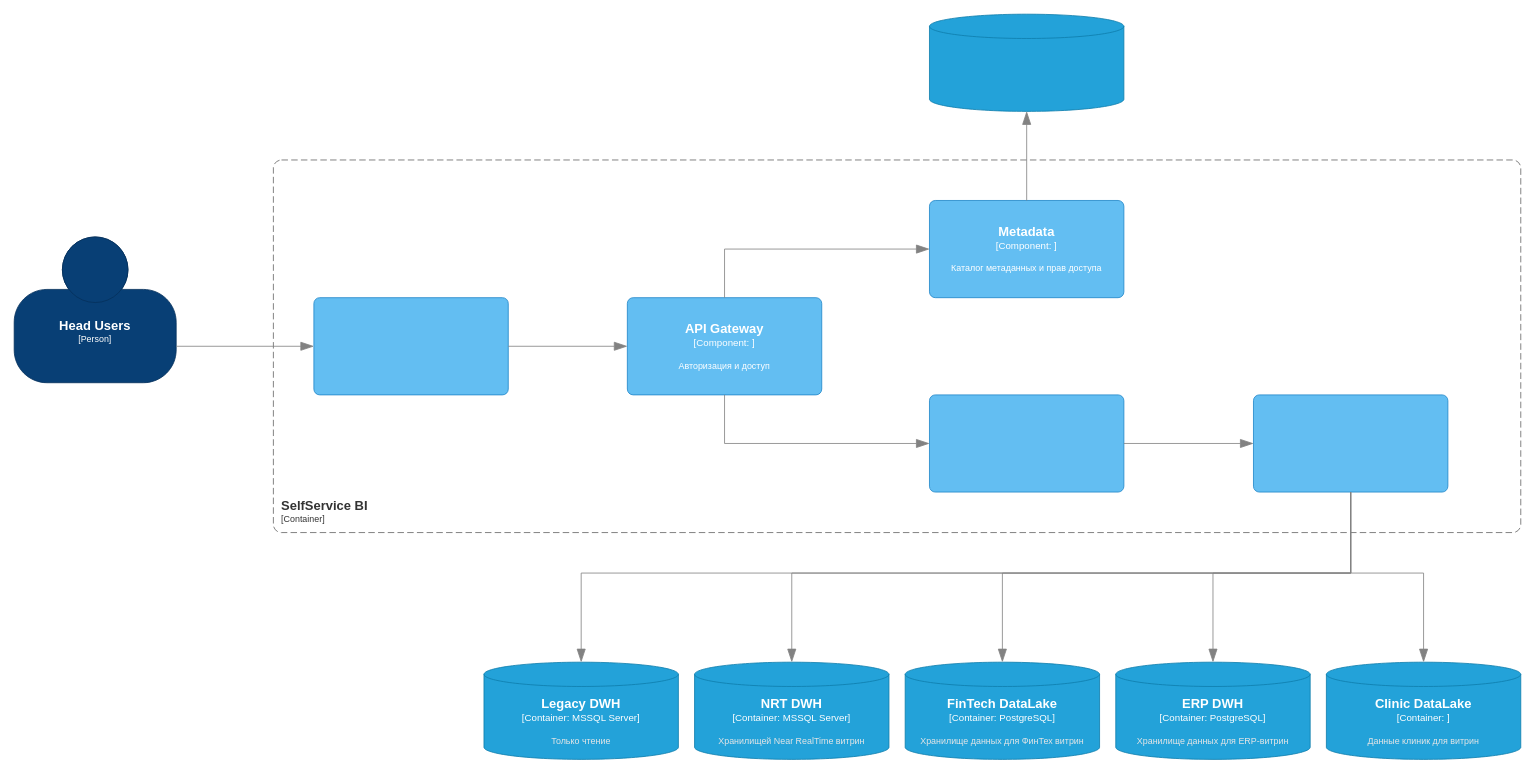
The diagram is 1535 pixels wide and 774 high, and some of its shapes have lost their labels. Here are the shapes that lost their labels. From the top down, the centre of each, then its label:
At point (1026, 62): "BI DB [Container: PostgreSQL] Хранение метаданных и настроек витрин".
At point (410, 346): "Web UI [Component: ] Витрины отчётов и конструктор".
At point (1026, 443): "Report Engine [Component: ] Движок отчётов и экспорт".
At point (1350, 443): "Query Service [Component: ] Выполнение запросов и срезов".
